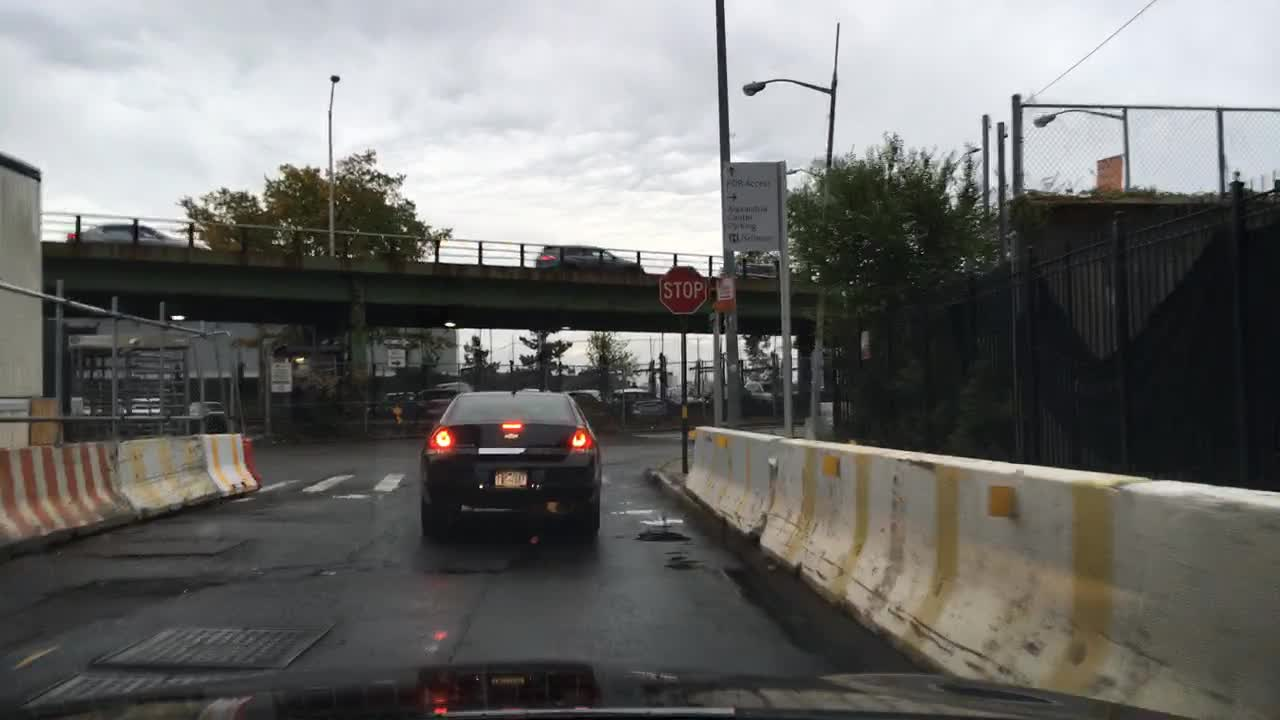car: (417, 388, 605, 554), (67, 219, 208, 252), (533, 241, 644, 278), (615, 384, 669, 420), (414, 386, 461, 418), (571, 388, 611, 424), (745, 376, 788, 407), (186, 395, 227, 425), (382, 389, 415, 410)
traffic sign: (722, 160, 785, 254), (657, 262, 707, 317), (1094, 156, 1127, 191), (269, 358, 291, 393), (379, 335, 408, 346), (388, 348, 403, 367)
